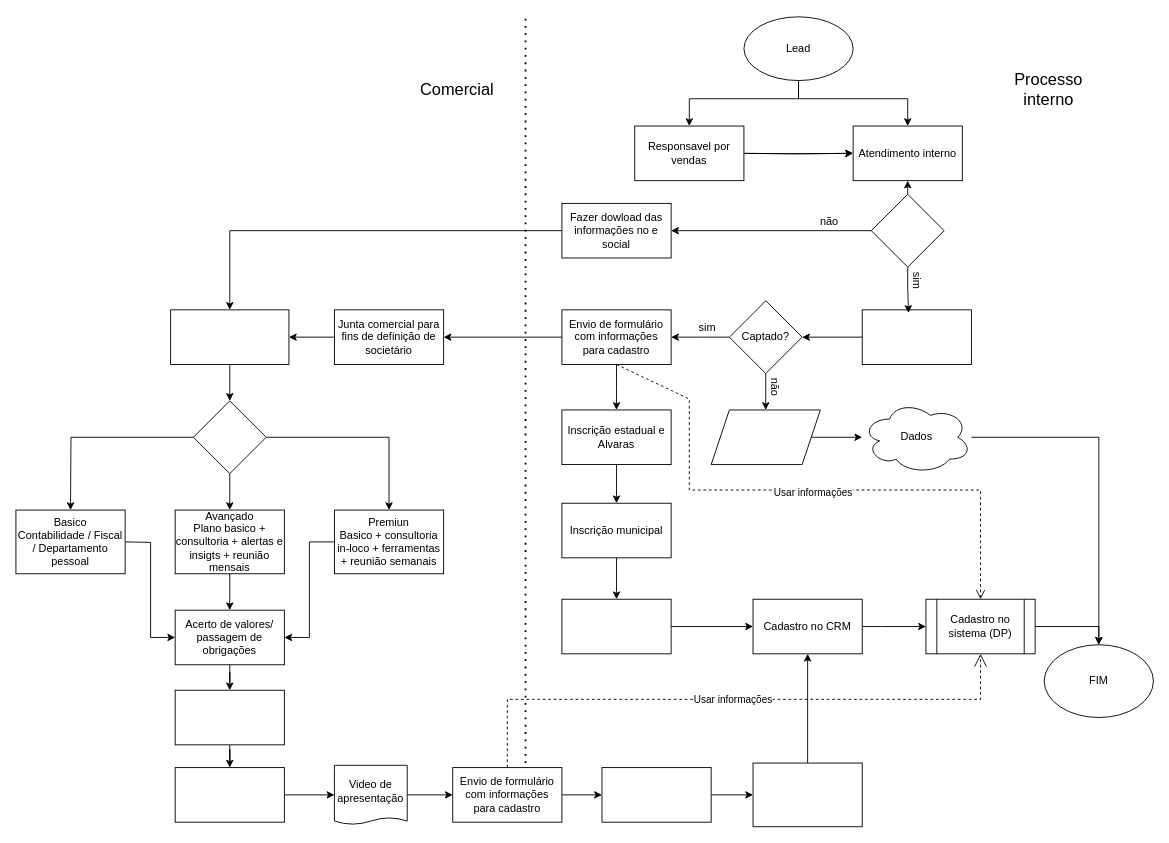
Some shapes in this 1169 by 843 pixel diagram are drawn without their labels. The shapes that lost their labels are listed below. From the top down, each one's centre as x and y in pixels, then its label:
point 907,230: Empresa nova?
point 229,336: Reunião para apresentação de planos/custos/entregas
point 916,336: Negociação
point 229,437: Planos
point 765,437: Pesquisa de satisfação
point 616,626: Certificados digitais
point 229,717: Criação do contrato de trabalho
point 229,794: Recolhimentos de datas / peculiaridades
point 656,794: Definição do cliente (A, B, C)
point 807,794: Reunião interna de alinhamento (Passar peculiaridades e importancia do cliente)
